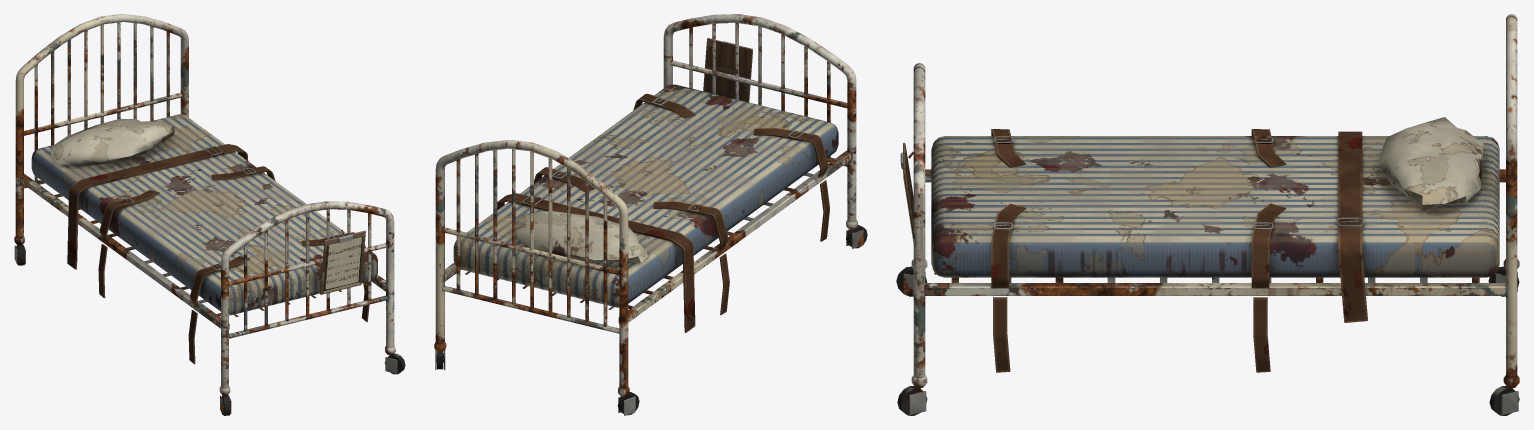
Rendered from HospitalBed.fbx.
3 views of the same model, side by side, from view 1: azimuth 30°, elevation 25°; view 2: azimuth 150°, elevation 25°; view 3: azimuth 270°, elevation 25° (orthographic). The views are drawn at different scales.
Visible parts, largest first — view 1: HospitalBed; view 2: HospitalBed; view 3: HospitalBed.
Part boxes in pixels (left/top/right/bottom): HospitalBed: left=14, top=14, right=405, bottom=415; HospitalBed: left=434, top=14, right=867, bottom=415; HospitalBed: left=896, top=14, right=1519, bottom=415.
Size of the model in its own units: 3.03 by 3.6 by 6.25.
1 material, 1 textured.
